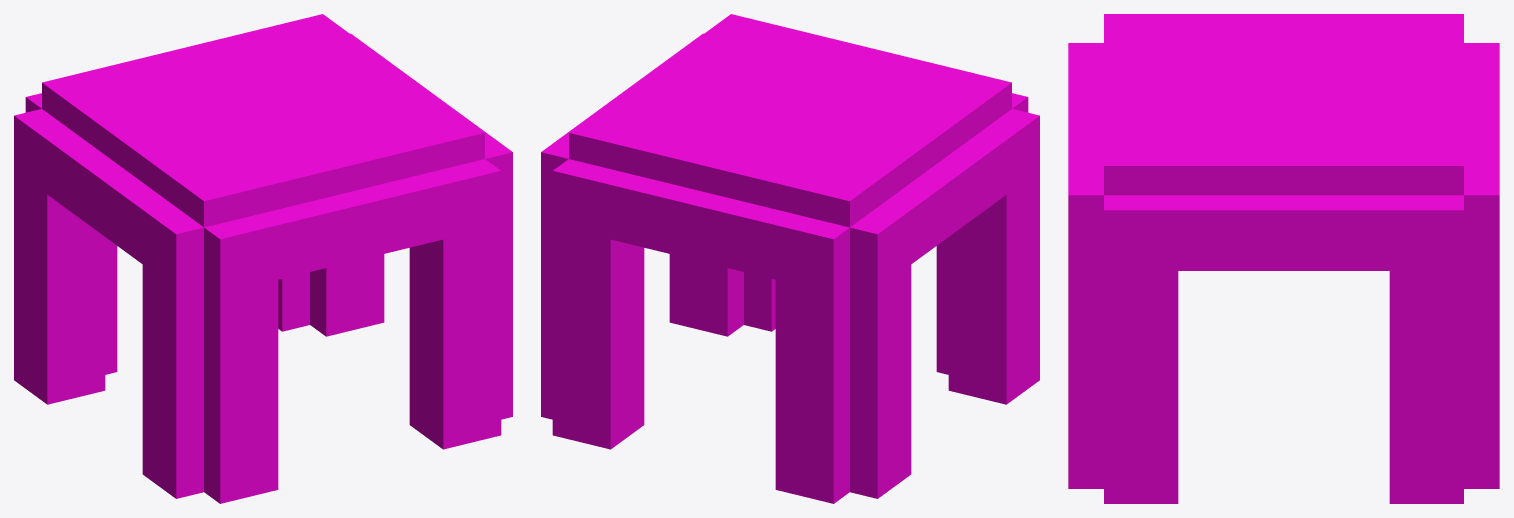
The model's file is plastic_table.glb.
3 renders of one model, left to right at view 1: azimuth 30°, elevation 25°; view 2: azimuth 150°, elevation 25°; view 3: azimuth 270°, elevation 25°, orthographic. The views are drawn at different scales.
Parts seen in each view (by area): view 1: col_roof_190, col_roof_318, col_roof_178, col_block_142, col_block_122, col_block_130, col_block_21, col_block_02, col_block_58, col_block_102, col_block_10, col_block_46 (+100 smaller); view 2: col_roof_179, col_roof_309, col_roof_169, col_block_143, col_block_117, col_block_127, col_block_03, col_roof_251, col_block_59, col_roof_203, col_block_05, col_block_22 (+100 smaller); view 3: col_roof_399, col_roof_299, col_roof_403, col_roof_300, col_roof_407, col_roof_307, col_roof_400, col_roof_401, col_roof_308, col_roof_302, col_roof_408, col_roof_402 (+178 smaller).
Boxes of the visible parts, x1,y1,x2,y2 form: col_roof_190: (204,220,250,267); col_roof_318: (186,182,234,227); col_roof_178: (160,216,203,261); col_block_142: (30,233,77,273); col_block_122: (204,359,250,398); col_block_130: (426,304,473,344); col_block_21: (310,297,356,336); col_block_02: (30,364,77,404); col_block_58: (30,312,77,352); col_block_102: (426,332,473,370); col_block_10: (204,466,250,503); col_block_46: (426,382,473,423); col_roof_179: (803,220,849,267); col_roof_309: (819,181,866,227); col_roof_169: (850,215,894,262); col_block_143: (976,233,1023,273); col_block_117: (803,359,849,398); col_block_127: (580,304,627,344); col_block_03: (976,364,1023,404); col_roof_251: (636,179,681,226); col_block_59: (976,311,1023,352); col_roof_203: (748,207,793,253); col_block_05: (803,464,849,503); col_block_22: (697,297,743,336); col_roof_399: (1425,150,1463,195); col_roof_299: (1425,195,1463,241); col_roof_403: (1282,150,1320,195); col_roof_300: (1389,195,1428,241); col_roof_407: (1139,150,1178,195); col_roof_307: (1139,195,1178,241); col_roof_400: (1389,150,1428,195); col_roof_401: (1354,150,1392,195); col_roof_308: (1104,195,1142,241); col_roof_302: (1318,195,1356,241); col_roof_408: (1104,150,1142,195); col_roof_402: (1318,150,1356,195).
Bounding box in the file's own units: 2.42 × 1.99 × 2.42.
